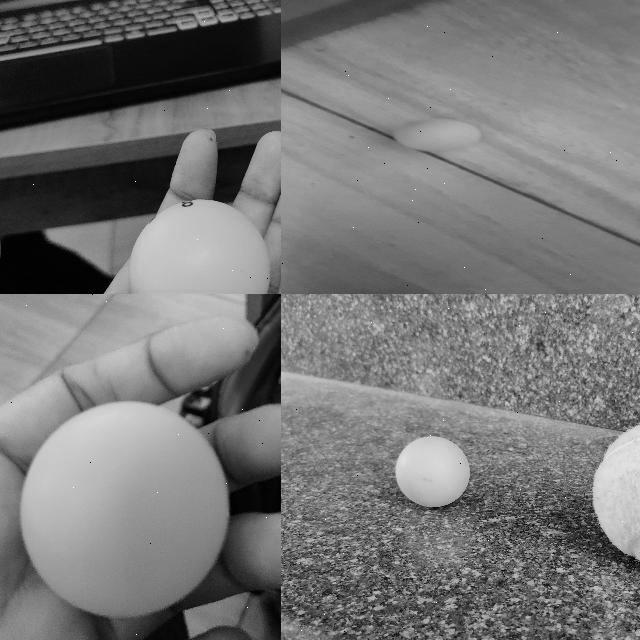ping-pong-ball: (18, 400, 230, 622), (131, 197, 270, 293), (391, 436, 469, 508), (394, 118, 480, 150)
